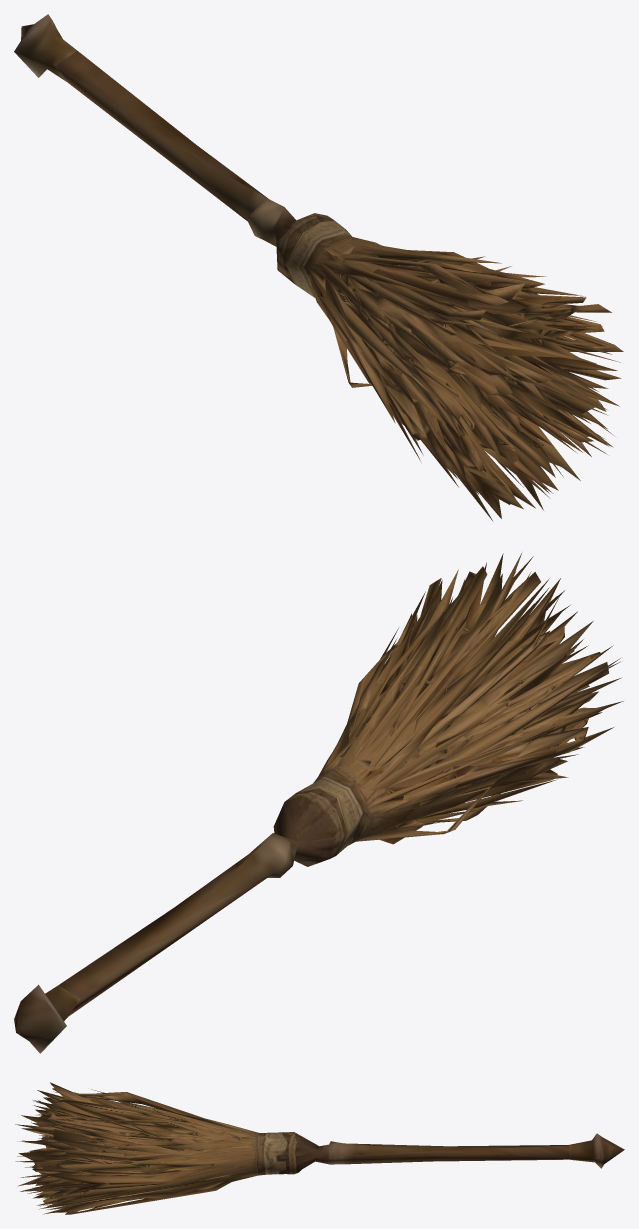
The model's file is broom.glb.
3 views of the same model, one above another, from view 1: azimuth 30°, elevation 25°; view 2: azimuth 150°, elevation 25°; view 3: azimuth 270°, elevation 25° (orthographic). The views are drawn at different scales.
Visible parts, largest first — view 1: body; view 2: body; view 3: body.
Boxes of the visible parts, left/top/right/bottom form: body: left=14, top=14, right=623, bottom=520; body: left=14, top=552, right=623, bottom=1053; body: left=15, top=1082, right=624, bottom=1214.
Size of the model in its own units: 0.4698 by 0.5093 by 2.19.
1 material, 1 textured.
